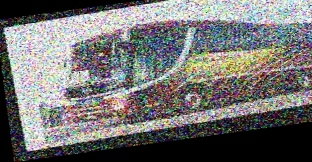bus: (49, 0, 312, 134)
